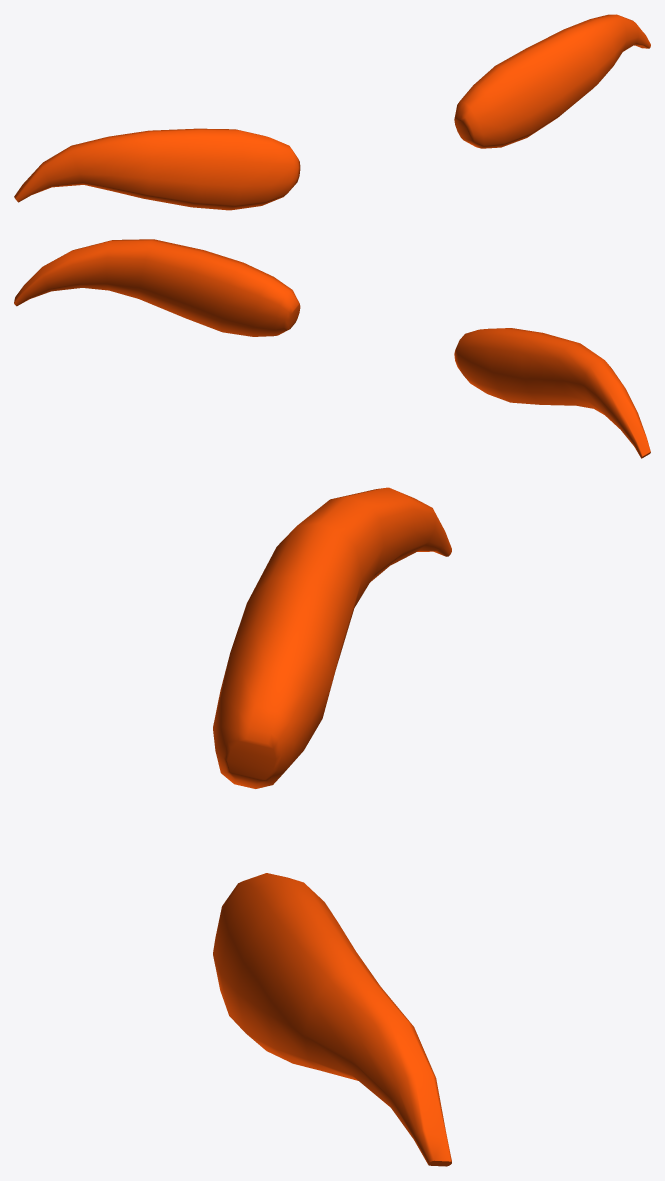
The model's file is Eyebrows_23_06.fbx.
3 views of the same model, one above another, from view 1: azimuth 30°, elevation 25°; view 2: azimuth 150°, elevation 25°; view 3: azimuth 270°, elevation 25° (orthographic). The views are drawn at different scales.
Parts seen in each view (by area): view 1: Eyebrows_23_06; view 2: Eyebrows_23_06; view 3: Eyebrows_23_06.
Boxes of the visible parts, x1,y1,x2,y2 form: Eyebrows_23_06: (14, 14, 650, 210); Eyebrows_23_06: (14, 239, 650, 458); Eyebrows_23_06: (213, 487, 451, 1166).
Size of the model in its own units: 19.19 by 2.4 by 3.13.
